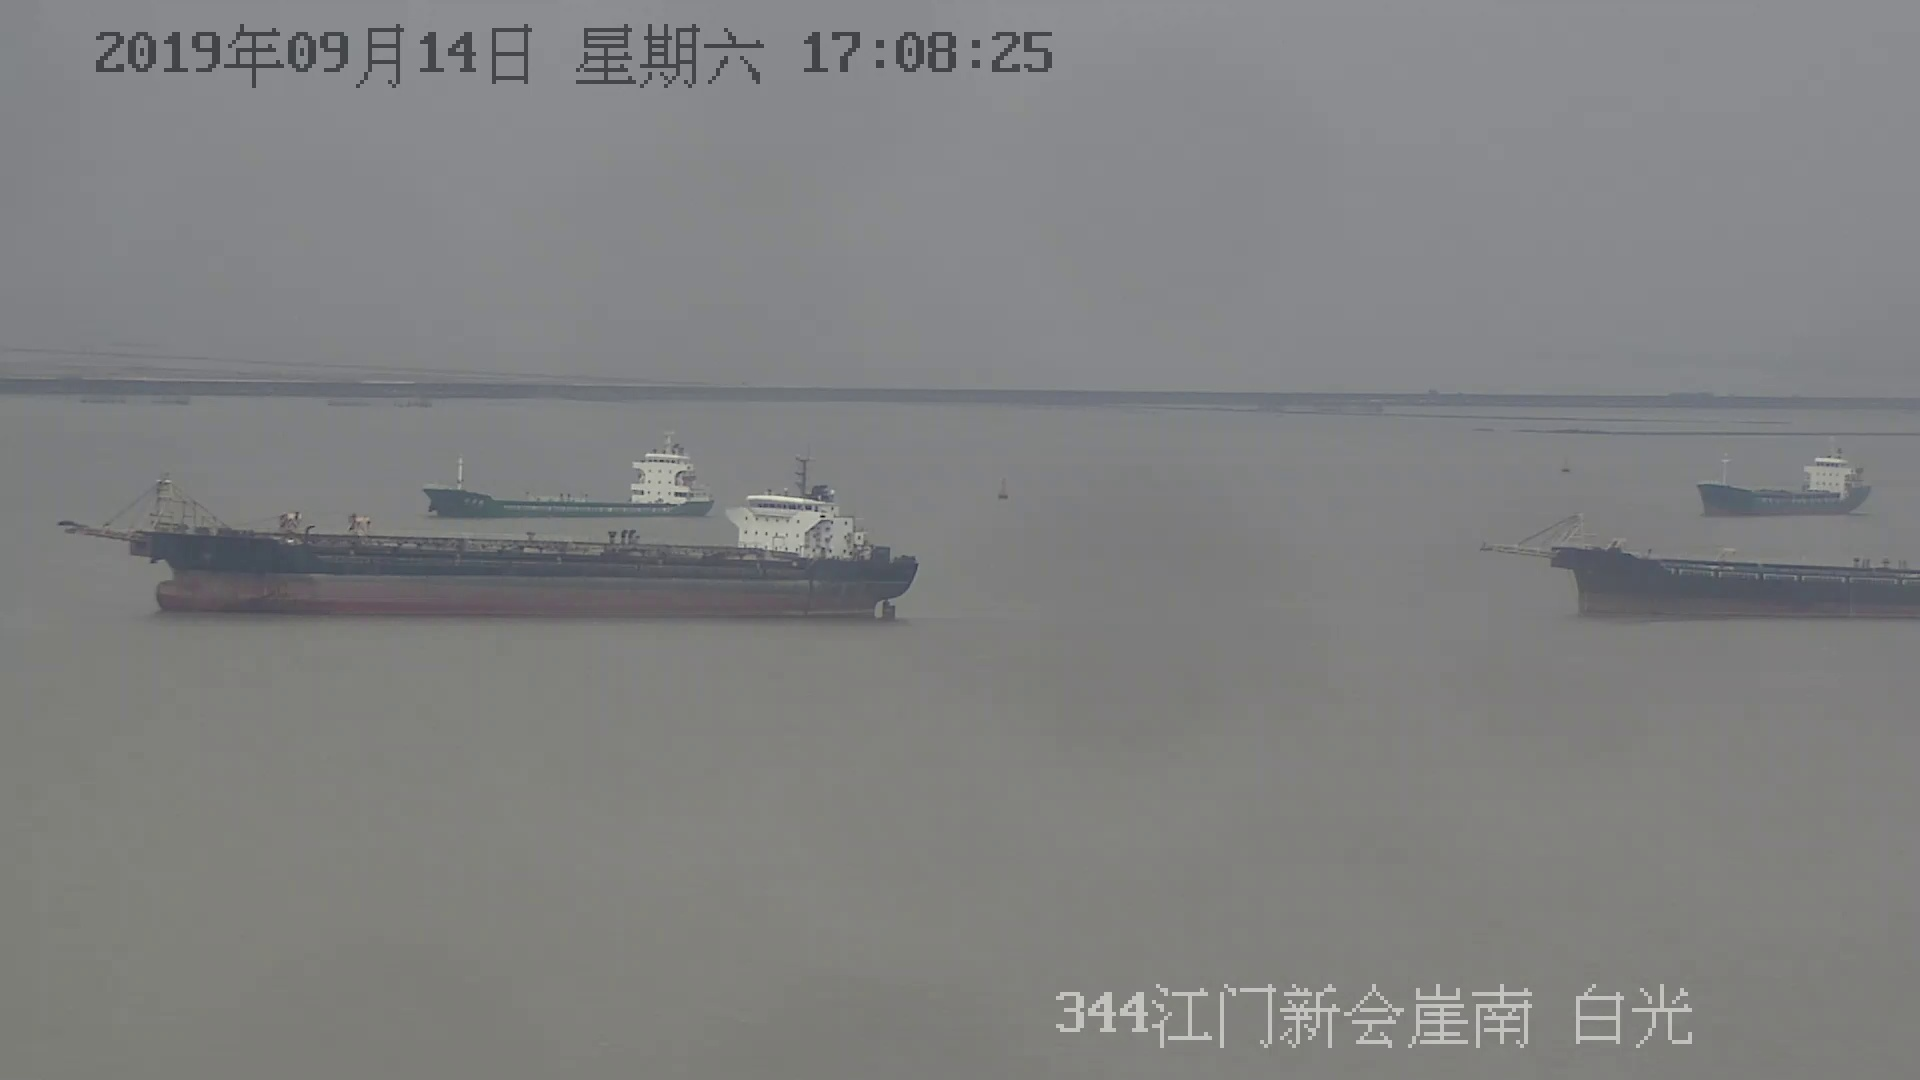ship: (78, 430, 922, 622), (425, 436, 721, 518), (1697, 454, 1876, 517)
